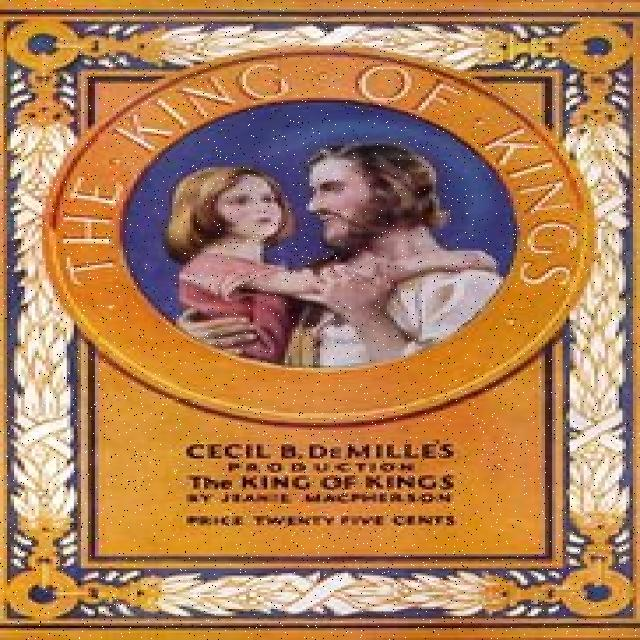movie-judul: (159, 428, 493, 538)
picture: (0, 0, 636, 640)
